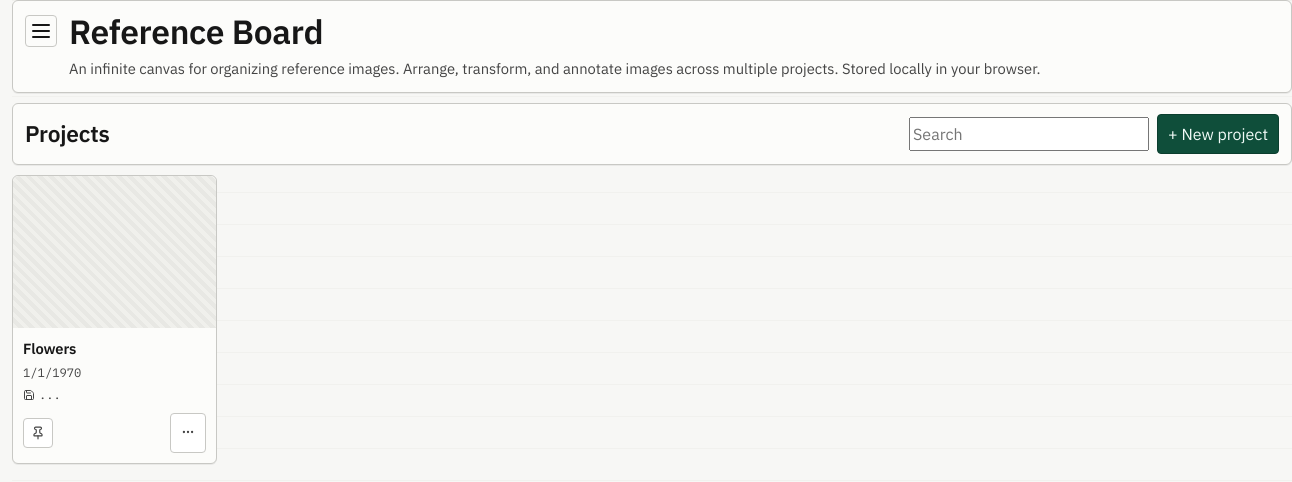
ReferenceBoardPage › shows menu items when ... button is clicked
The image size is (1292, 482).
Click the button named "options for flowers" at (188, 432), box [170, 412, 206, 452]
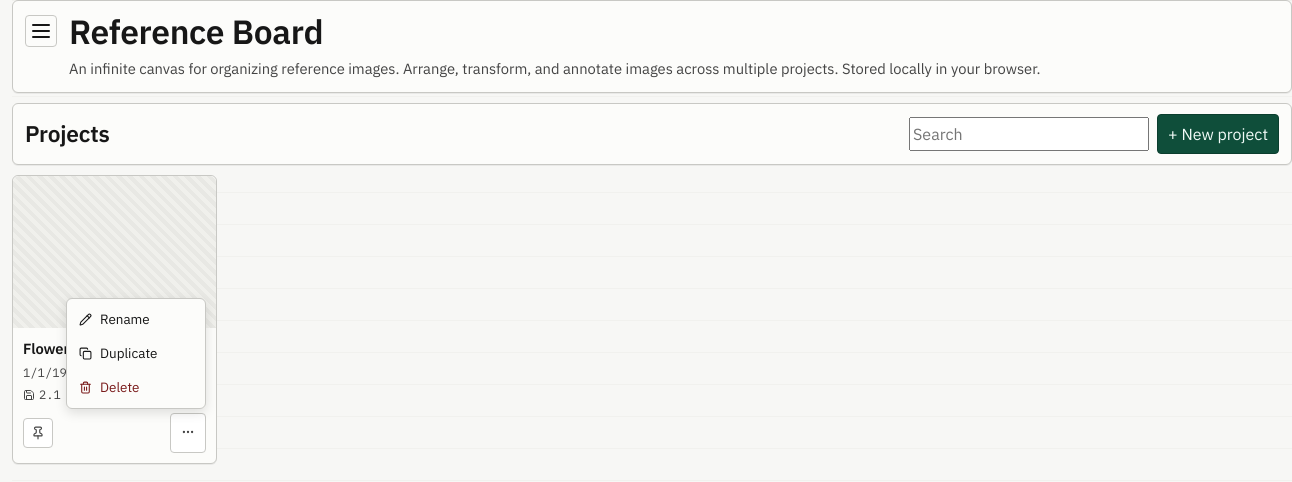
Expected: the menu item "Rename" is shown, [71, 303, 201, 335]
Expected: the menu item "Delete" is shown, [71, 371, 201, 404]
Expected: the menu item with aria-label "duplicate flowers" is shown, [71, 337, 201, 369]
